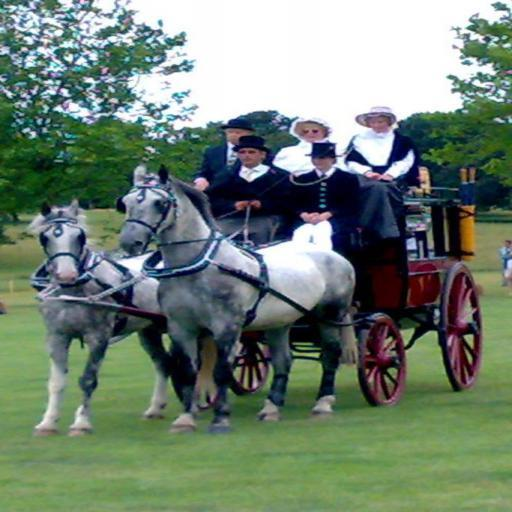Horse: (115, 162, 359, 436), (32, 196, 163, 438)
